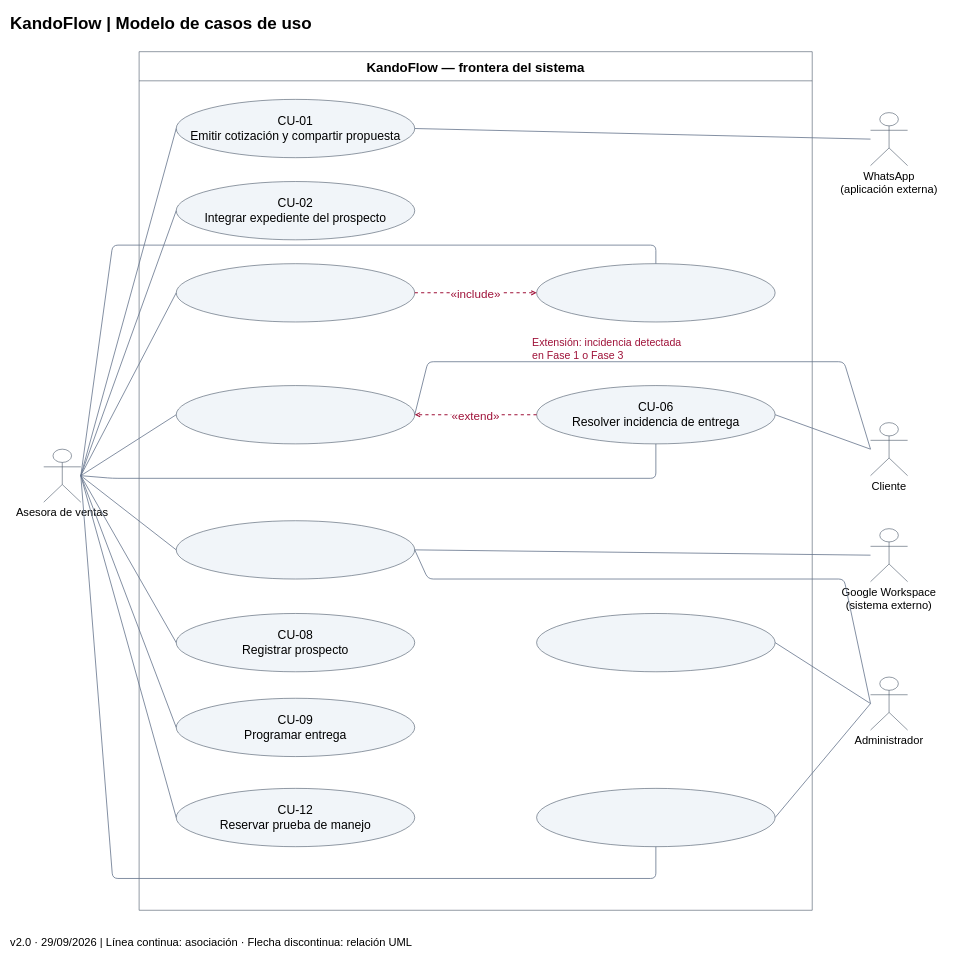
Image size: 956x964. Some labels were removed from this diagram. The shapes that lost their labels are listed below. From the top down, each one's box as (x1, y1, x2, y2) in pixels, then its label:
(176, 263, 415, 322): CU-04 Obtener paquete de crédito
(536, 263, 775, 322): CU-03 Verificar completitud documental
(176, 385, 415, 444): CU-05 Ejecutar entrega vehicular
(176, 520, 415, 579): CU-07 Respaldar operación comercial
(536, 613, 775, 672): CU-10 Mantener plantillas documentales
(536, 788, 775, 847): CU-11 Acceder al espacio de trabajo
